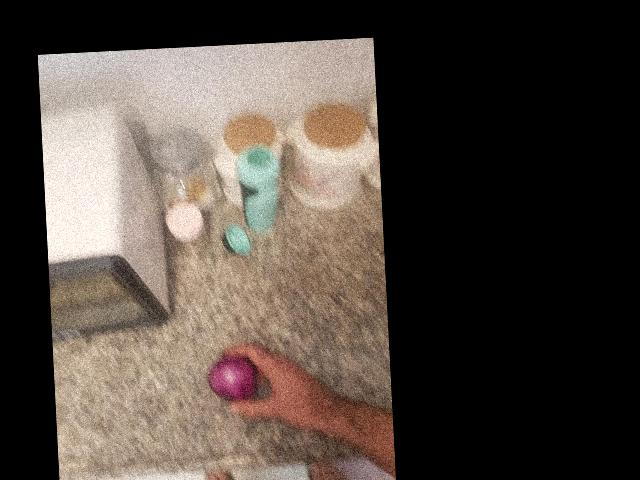onion: (19, 203, 77, 264)
